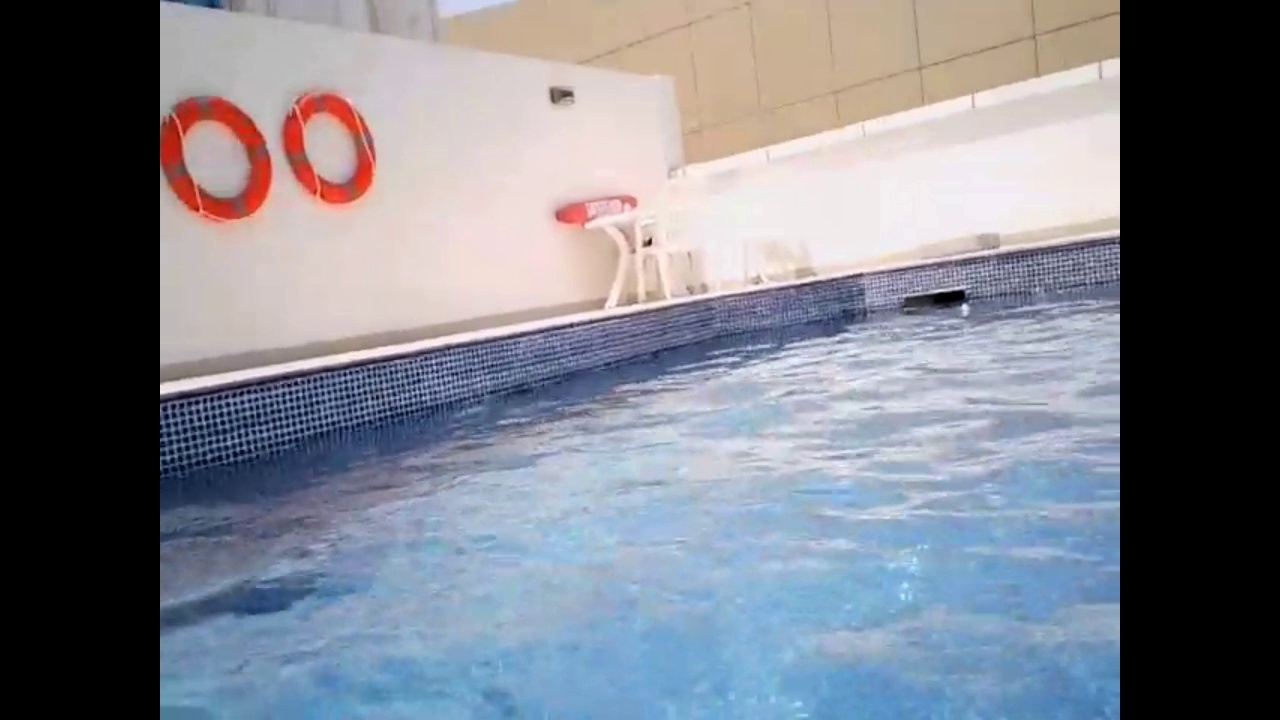debris: (958, 299, 971, 315)
